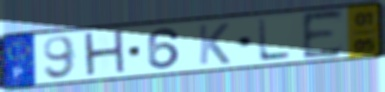6: (146, 26, 183, 71)
9: (41, 35, 78, 80)
E: (300, 8, 346, 62)
H: (81, 28, 129, 80)
K: (196, 22, 232, 67)
L: (255, 17, 293, 63)
